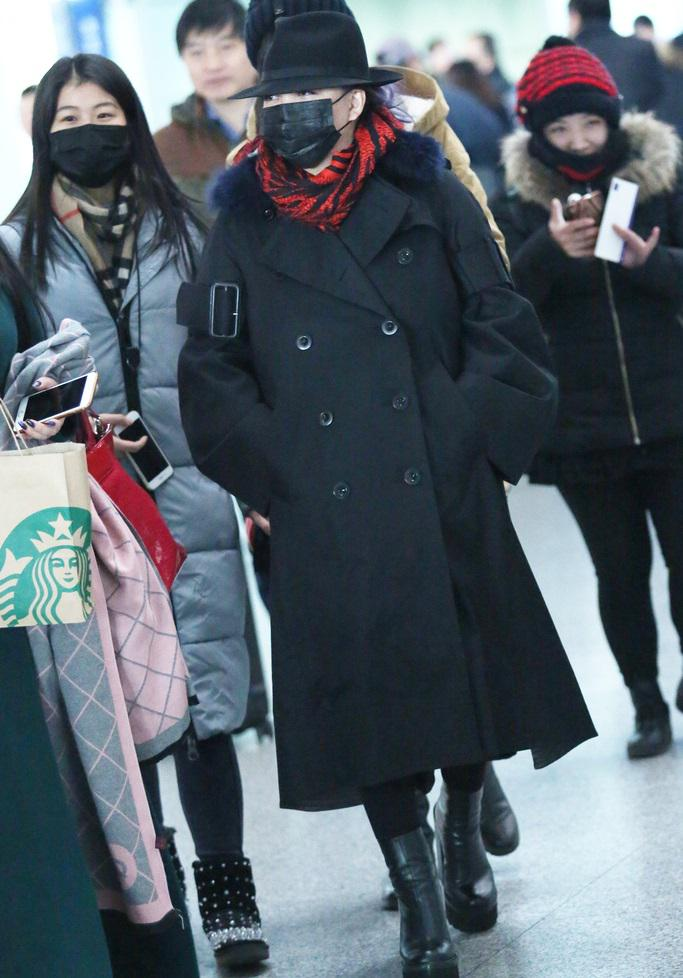NONE: (183, 24, 253, 99)
OK: (262, 68, 339, 166), (55, 95, 127, 180)
WRONG: (540, 99, 613, 178)
